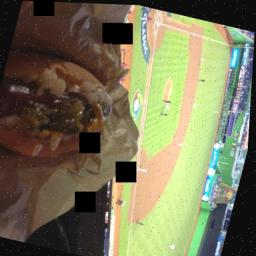hotdog: (0, 80, 46, 123)
